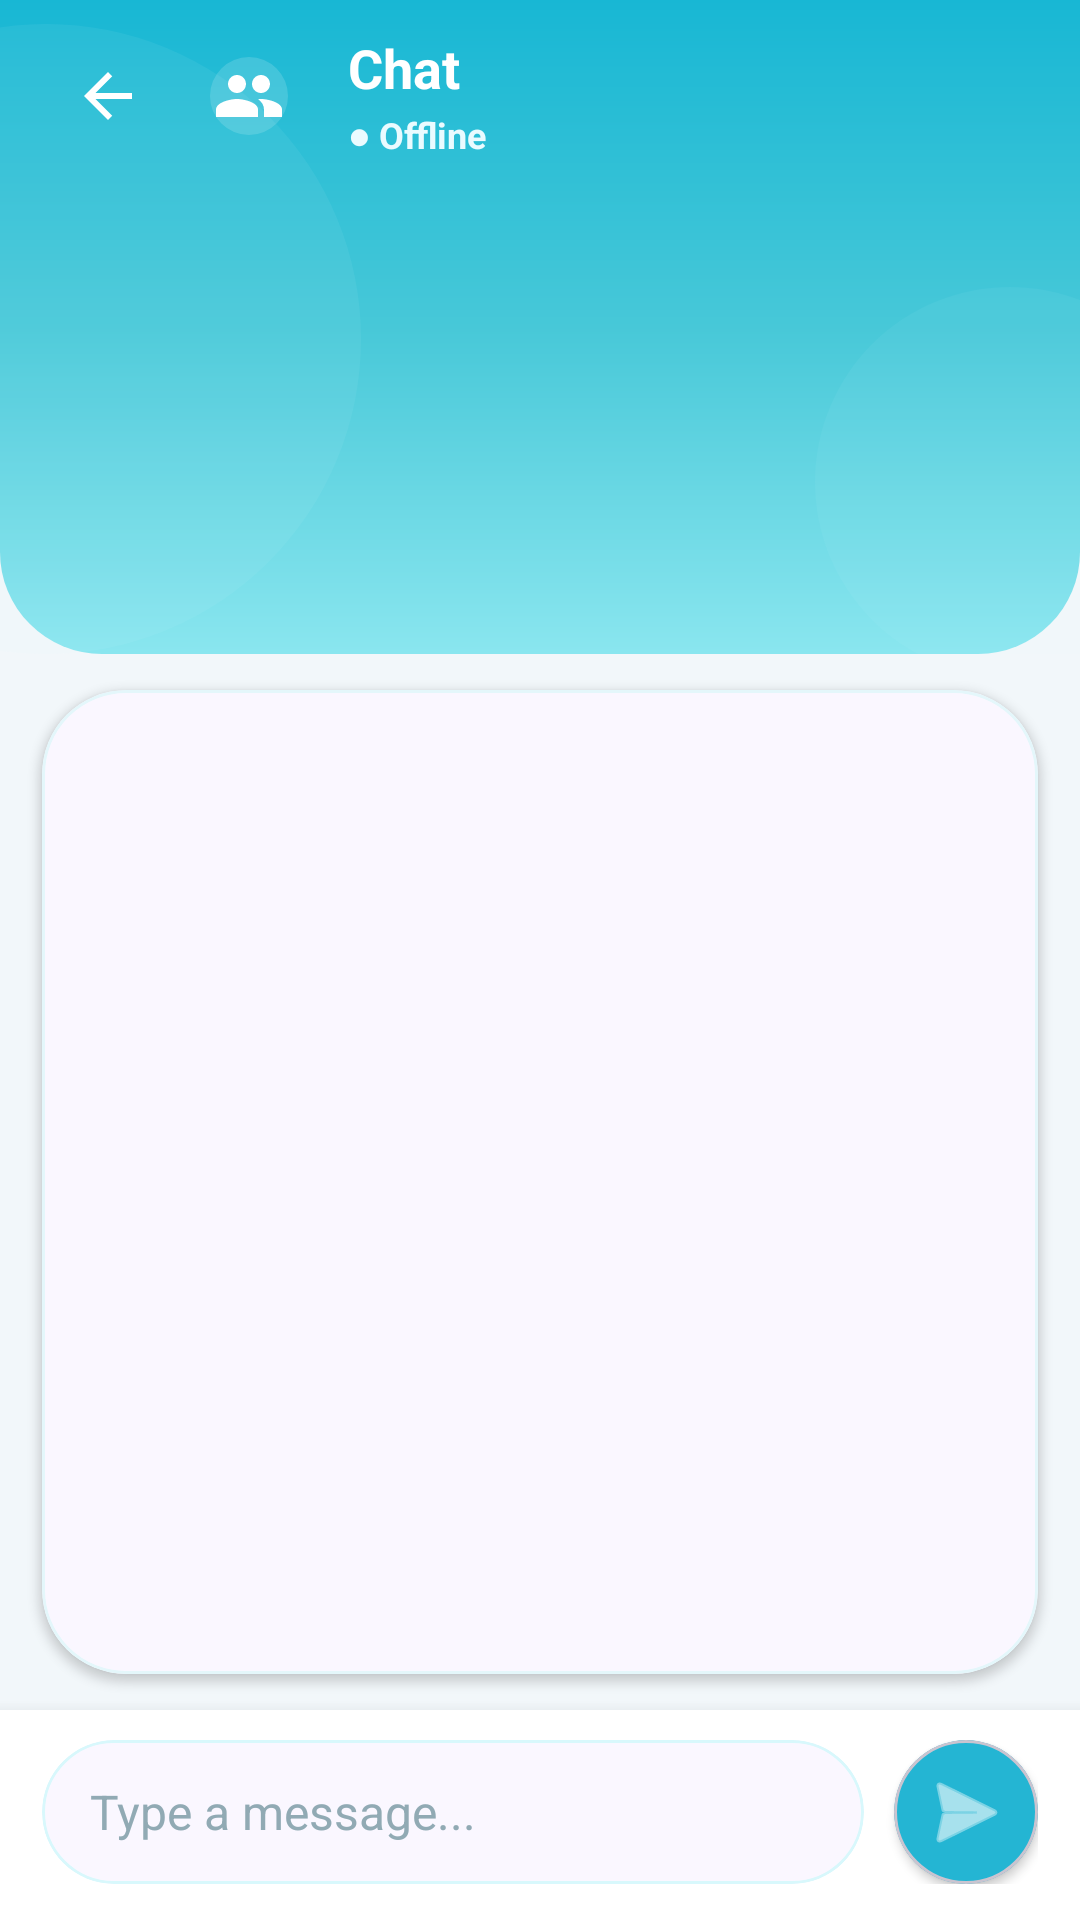

Screen size 1080 x 1920. Icon name, then its box in pixels as bbox(x1, y1, x2, y2):
people: bbox(186, 57, 304, 159)
send: bbox(894, 1740, 1038, 1884)
